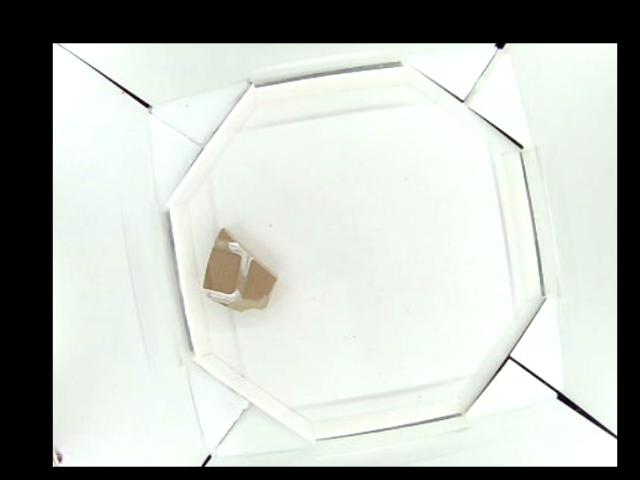China: (202, 229, 277, 313)
